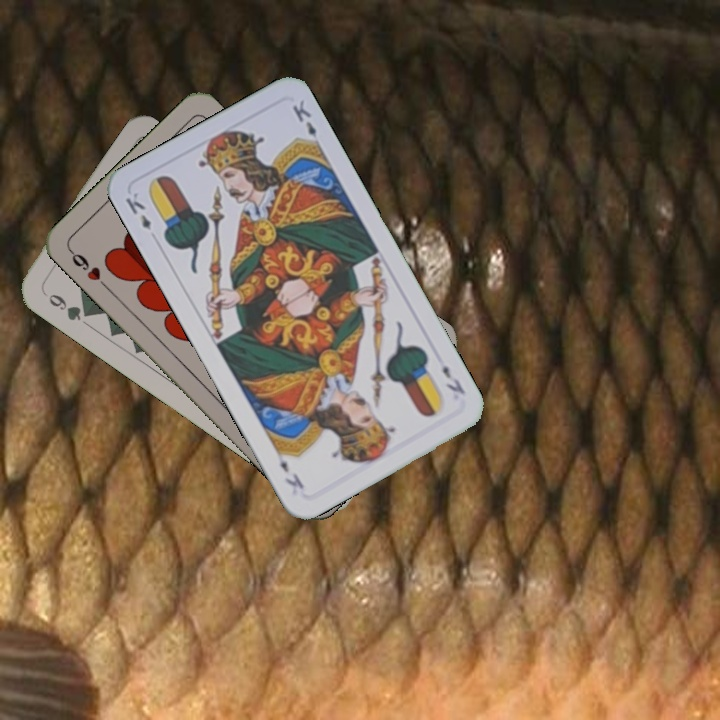EK: (121, 188, 154, 232), (438, 360, 468, 398)
G9: (38, 286, 95, 324)
H9: (65, 245, 111, 292)
